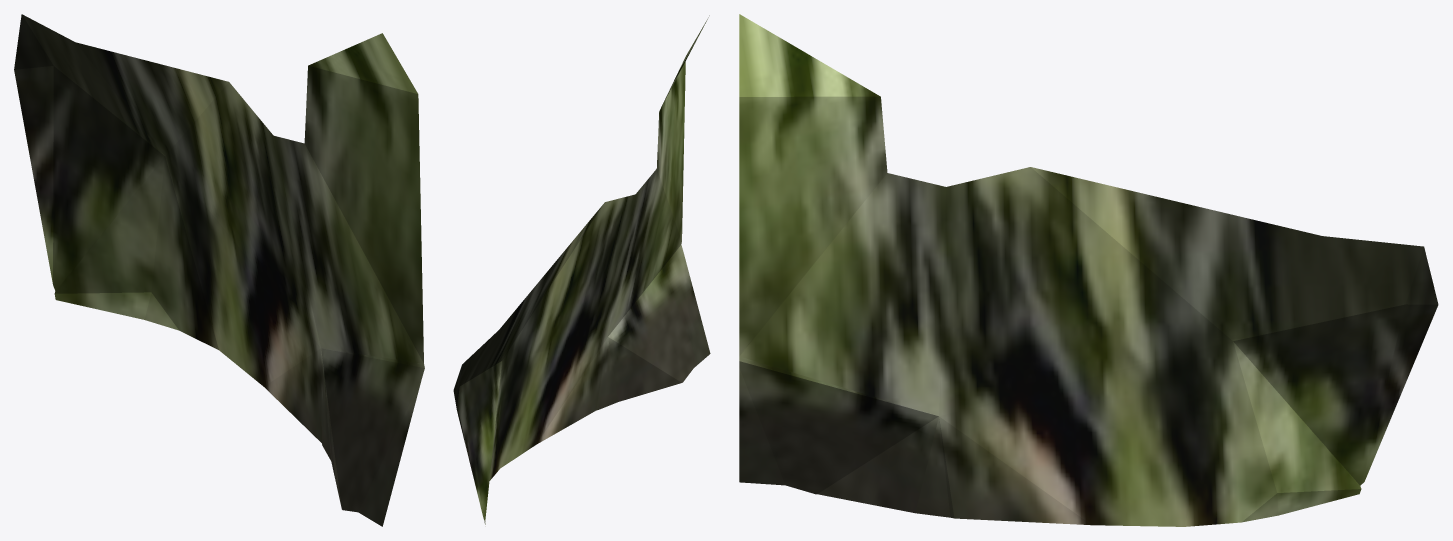
3 renders of one model, left to right at view 1: azimuth 30°, elevation 25°; view 2: azimuth 150°, elevation 25°; view 3: azimuth 270°, elevation 25°, orthographic. The views are drawn at different scales.
Size of the model in its own units: 0.1959 by 1.34 by 1.76.
Materials: 1 (1 with a texture image).
